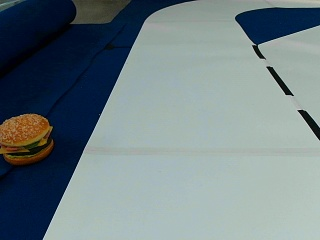burger: (0, 111, 53, 164)
